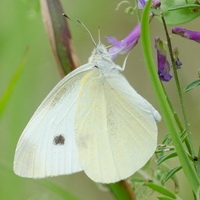insect: (14, 44, 160, 182)
